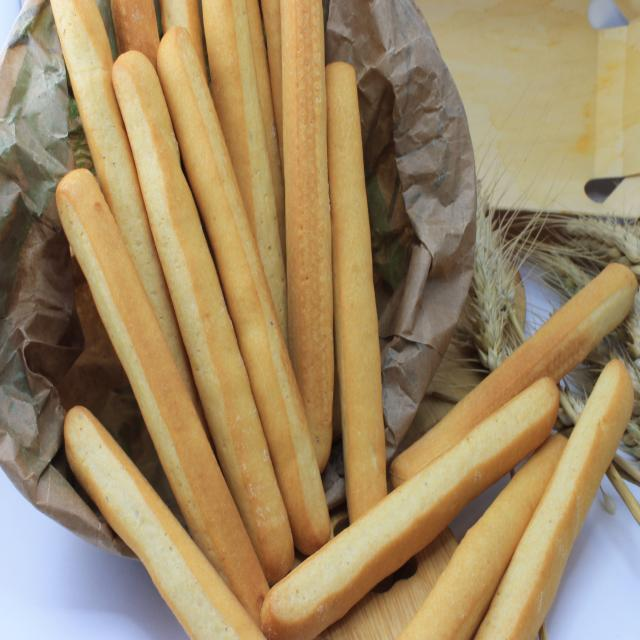Grissini: (34, 2, 631, 640)
